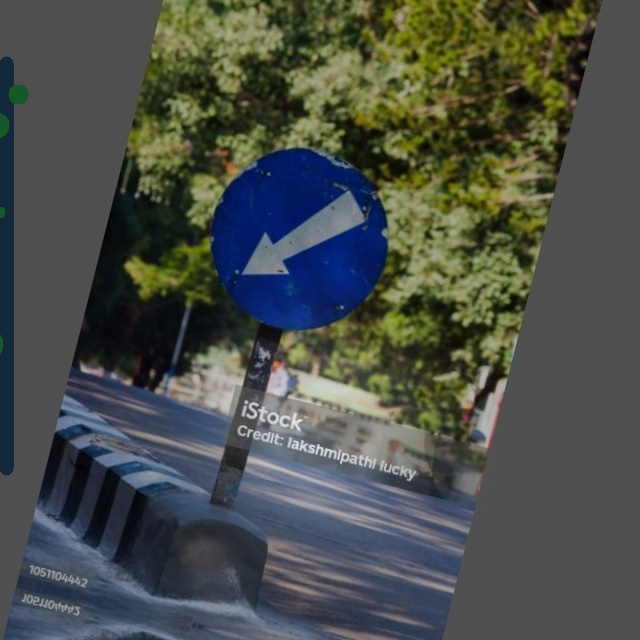Compulsory_Keep_Left: (181, 126, 418, 369)
